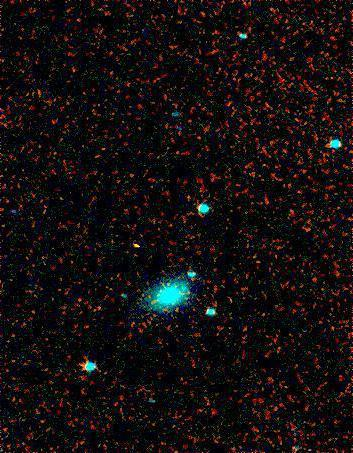star: (130, 222, 160, 252)
